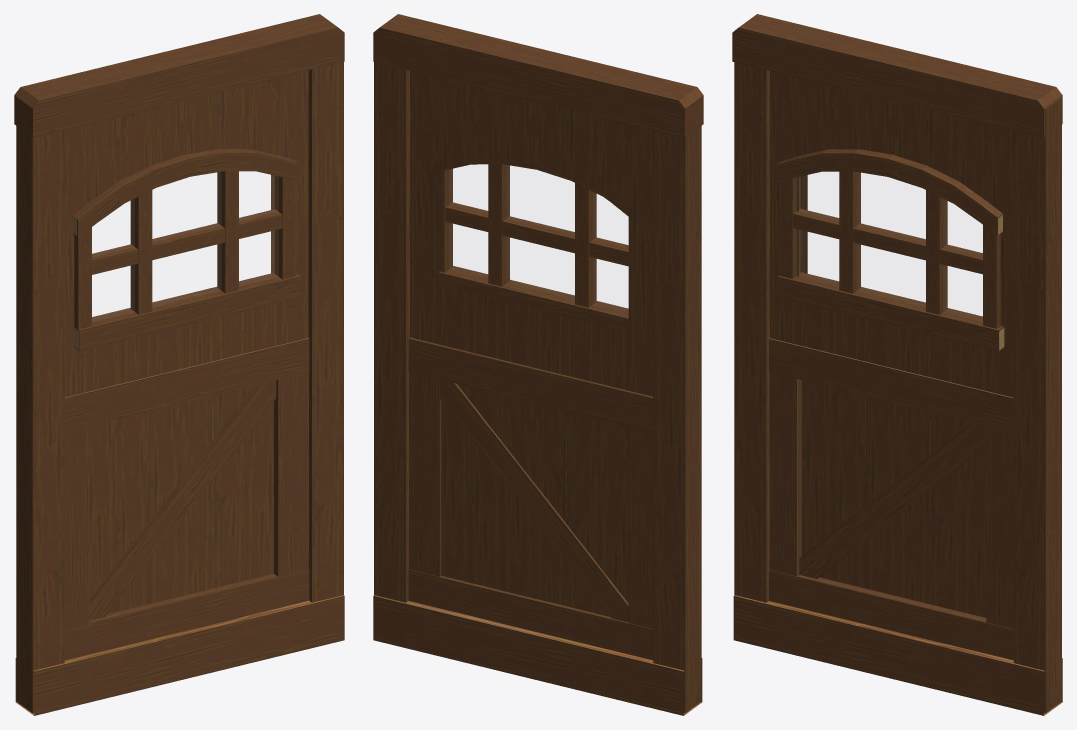
File: Door_1_Flat.gltf
3 renders of one model, left to right at view 1: azimuth 30°, elevation 25°; view 2: azimuth 150°, elevation 25°; view 3: azimuth 330°, elevation 25°, orthographic.
Visible parts, largest first — view 1: Door_1_Flat; view 2: Door_1_Flat; view 3: Door_1_Flat.
Boxes of the visible parts, x1,y1,x2,y2 form: Door_1_Flat: [14, 14, 344, 715]; Door_1_Flat: [373, 14, 703, 715]; Door_1_Flat: [732, 14, 1062, 715].
Size of the model in its own units: 1.12 by 2.1 by 0.1207.
2 materials, 1 textured.
